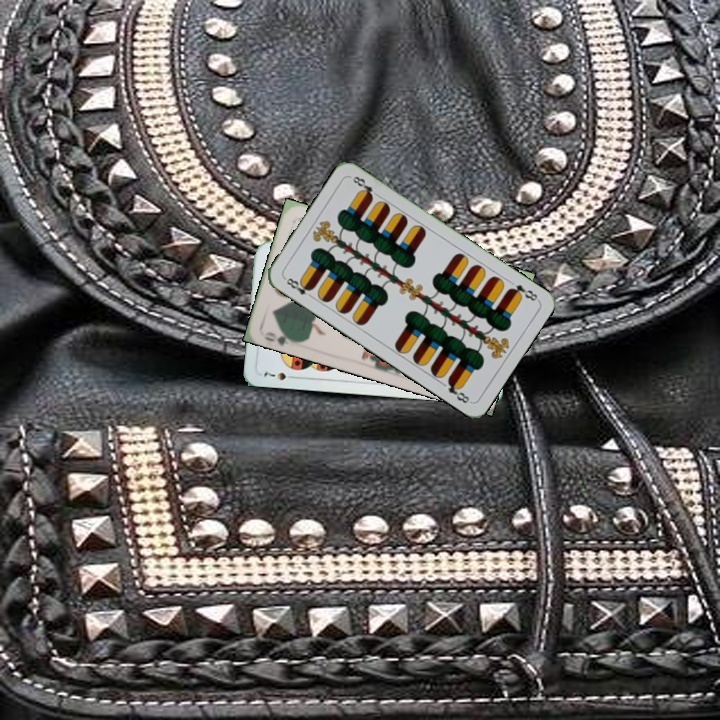E8: (280, 273, 316, 301), (504, 280, 541, 304)
GO: (260, 326, 300, 348)
S7: (258, 367, 298, 383)
